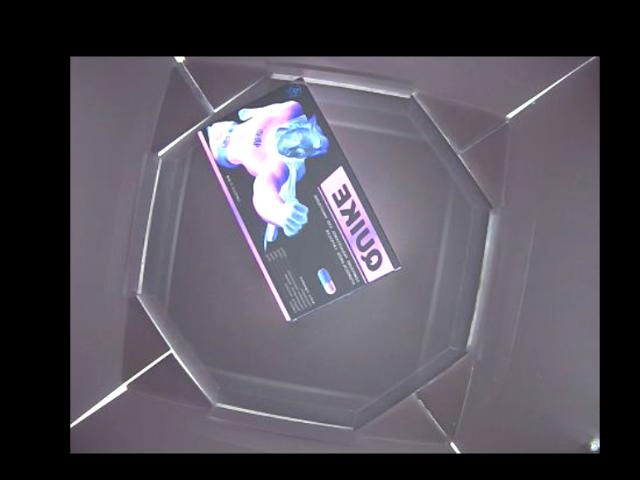Medicine: (198, 76, 399, 326)
